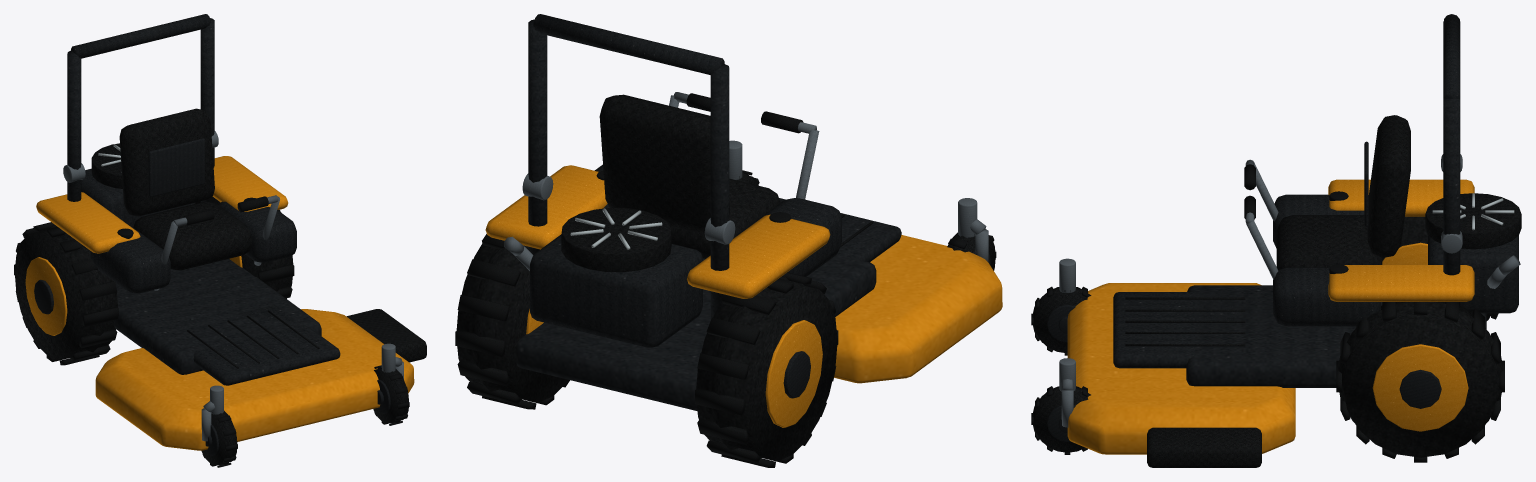
File: Mower_ZeroTurn_52in.fbx
3 renders of one model, left to right at view 1: azimuth 30°, elevation 25°; view 2: azimuth 150°, elevation 25°; view 3: azimuth 270°, elevation 25°, orthographic. The views are drawn at different scales.
Parts seen in each view (by area): view 1: Mower_ZeroTurn_52in__Body, Mower_ZeroTurn_52in__Wheel_Drive_L, Mower_ZeroTurn_52in__Wheel_Caster_R, Mower_ZeroTurn_52in__Wheel_Drive_R, Mower_ZeroTurn_52in__Wheel_Caster_L, Mower_ZeroTurn_52in__LapBar_R, Mower_ZeroTurn_52in__LapBar_L; view 2: Mower_ZeroTurn_52in__Body, Mower_ZeroTurn_52in__Wheel_Drive_L, Mower_ZeroTurn_52in__Wheel_Drive_R, Mower_ZeroTurn_52in__LapBar_L, Mower_ZeroTurn_52in__Wheel_Caster_L, Mower_ZeroTurn_52in__LapBar_R; view 3: Mower_ZeroTurn_52in__Body, Mower_ZeroTurn_52in__Wheel_Drive_R, Mower_ZeroTurn_52in__Wheel_Caster_L, Mower_ZeroTurn_52in__Wheel_Caster_R, Mower_ZeroTurn_52in__Wheel_Drive_L, Mower_ZeroTurn_52in__LapBar_R, Mower_ZeroTurn_52in__LapBar_L.
Part boxes in pixels (bbox=[...]): Mower_ZeroTurn_52in__Body: bbox=[36, 14, 426, 450]; Mower_ZeroTurn_52in__Wheel_Drive_L: bbox=[14, 222, 118, 365]; Mower_ZeroTurn_52in__Wheel_Caster_R: bbox=[373, 365, 409, 425]; Mower_ZeroTurn_52in__Wheel_Drive_R: bbox=[195, 197, 294, 298]; Mower_ZeroTurn_52in__Wheel_Caster_L: bbox=[201, 410, 237, 467]; Mower_ZeroTurn_52in__LapBar_R: bbox=[237, 195, 279, 265]; Mower_ZeroTurn_52in__LapBar_L: bbox=[154, 209, 214, 290]; Mower_ZeroTurn_52in__Body: bbox=[485, 14, 1002, 410]; Mower_ZeroTurn_52in__Wheel_Drive_L: bbox=[695, 272, 838, 467]; Mower_ZeroTurn_52in__Wheel_Drive_R: bbox=[455, 234, 569, 409]; Mower_ZeroTurn_52in__LapBar_L: bbox=[761, 111, 819, 199]; Mower_ZeroTurn_52in__Wheel_Caster_L: bbox=[947, 232, 996, 270]; Mower_ZeroTurn_52in__LapBar_R: bbox=[669, 92, 710, 111]; Mower_ZeroTurn_52in__Body: bbox=[1059, 14, 1521, 467]; Mower_ZeroTurn_52in__Wheel_Drive_R: bbox=[1336, 302, 1504, 462]; Mower_ZeroTurn_52in__Wheel_Caster_L: bbox=[1031, 286, 1091, 355]; Mower_ZeroTurn_52in__Wheel_Caster_R: bbox=[1031, 386, 1090, 454]; Mower_ZeroTurn_52in__Wheel_Drive_L: bbox=[1382, 216, 1498, 320]; Mower_ZeroTurn_52in__LapBar_R: bbox=[1244, 195, 1278, 279]; Mower_ZeroTurn_52in__LapBar_L: bbox=[1244, 159, 1278, 221].
Size of the model in its own units: 1.63 by 1.61 by 2.04.
